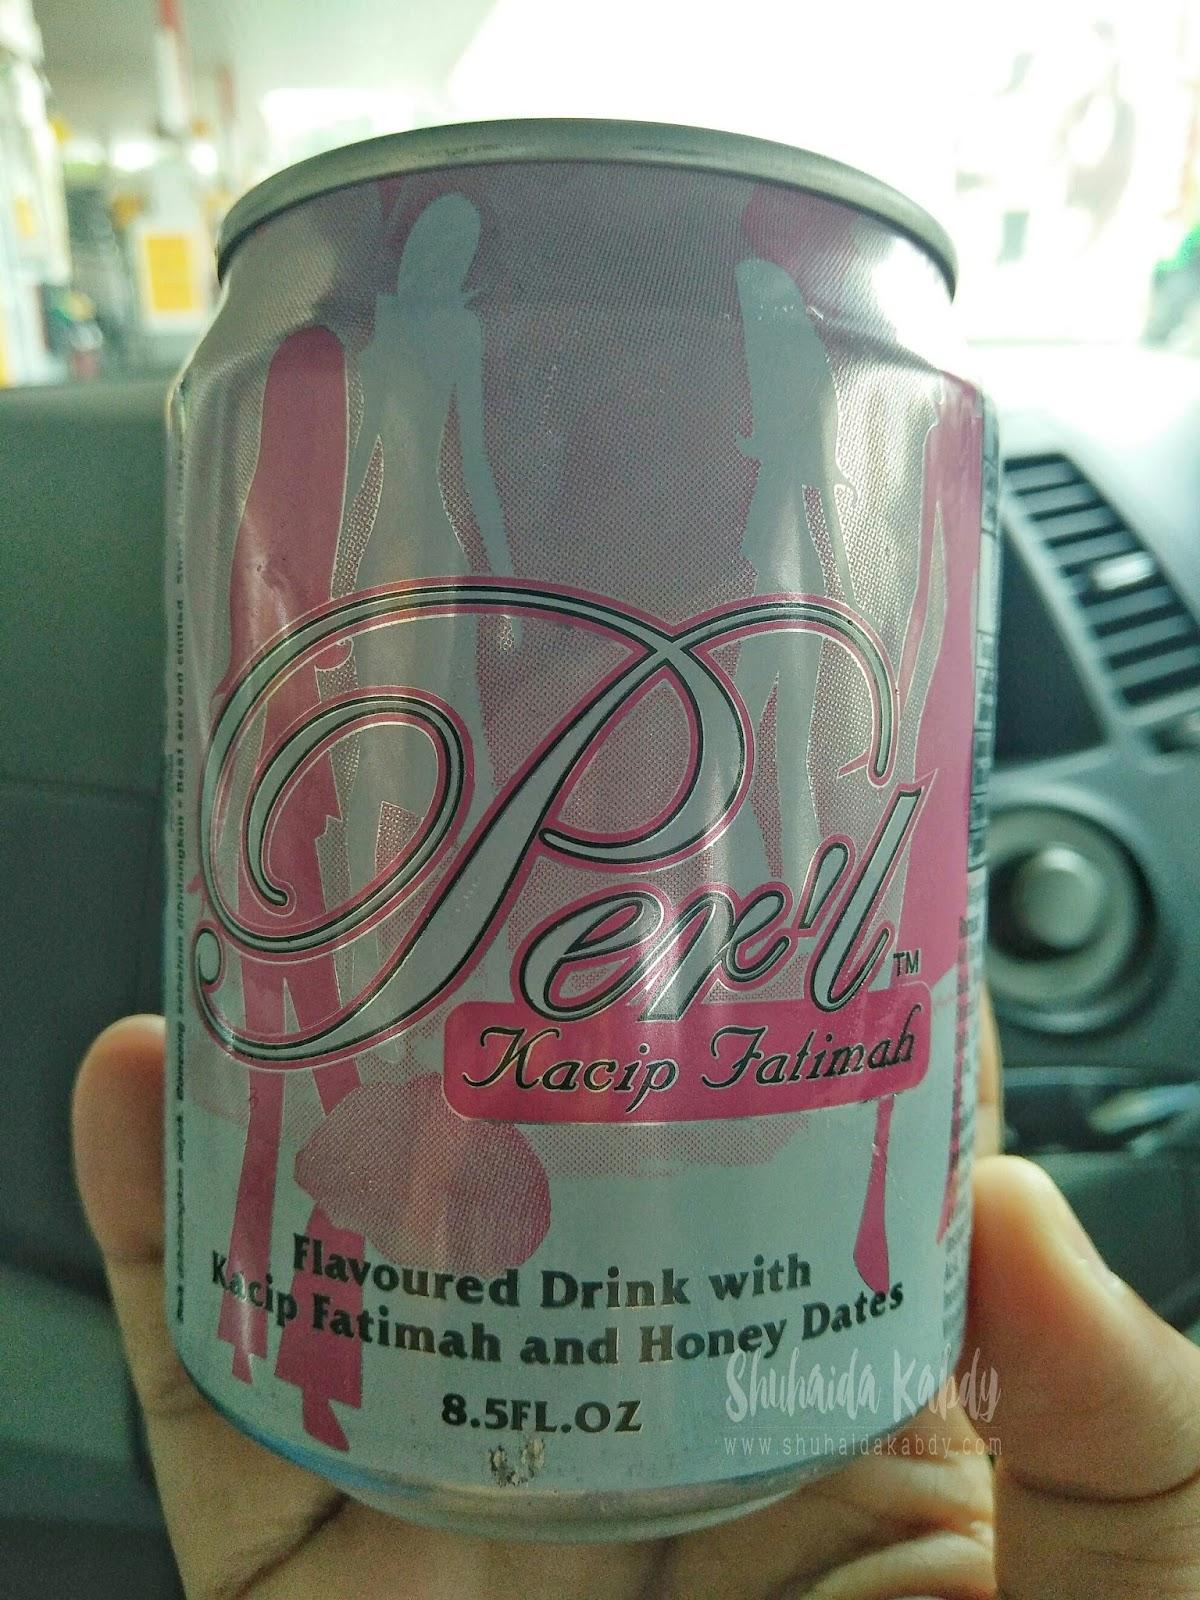metal: (163, 105, 991, 1529)
